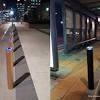Animal: (0, 49, 18, 84), (86, 46, 95, 84)
